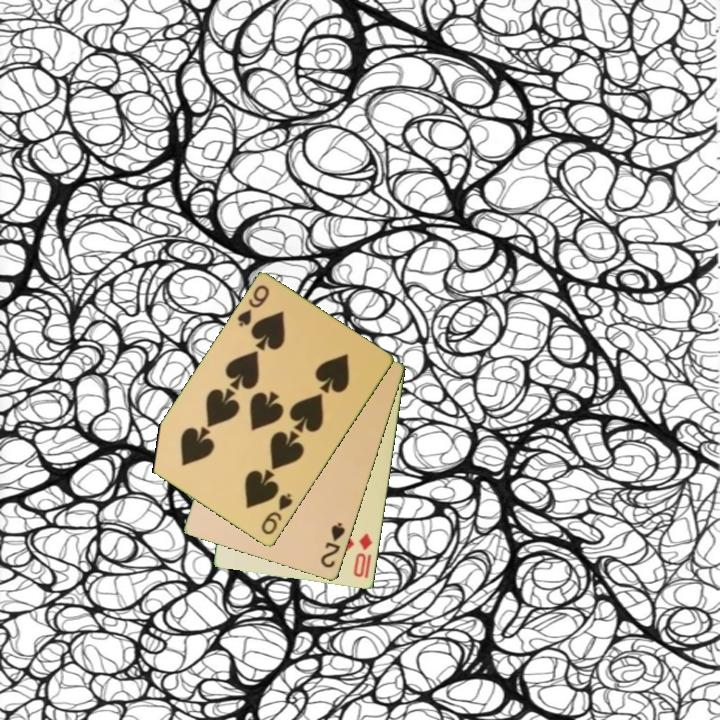10d: (350, 530, 375, 581)
2s: (317, 519, 348, 571)
9s: (258, 490, 296, 538), (234, 282, 272, 330)
